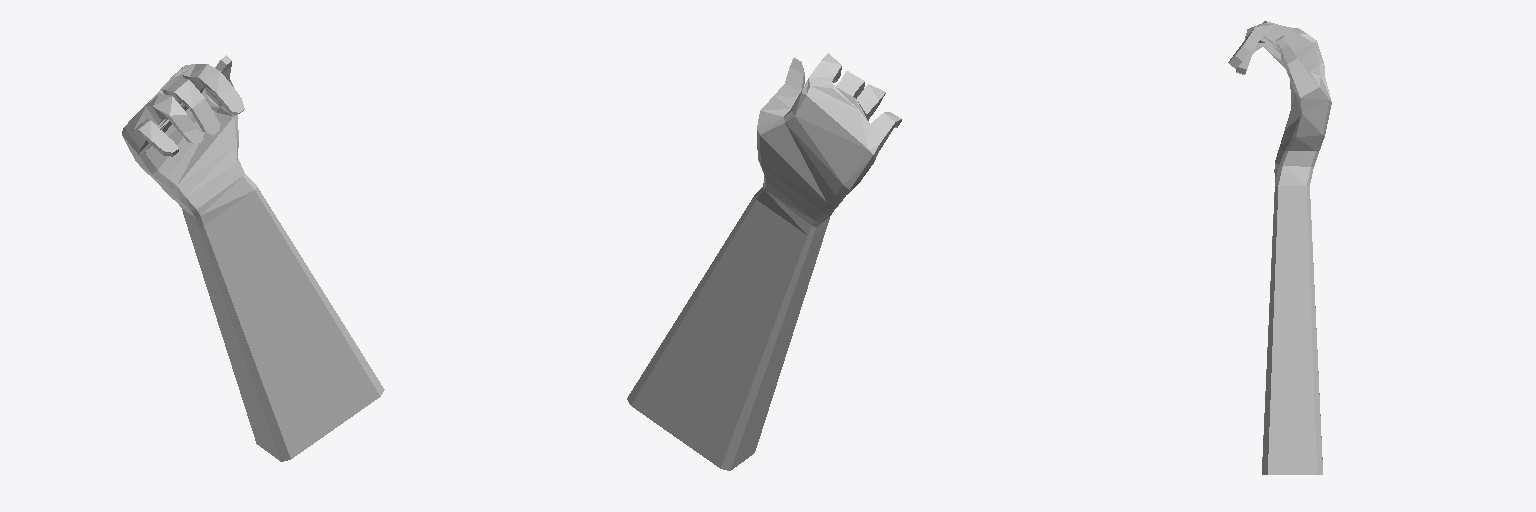
The model's file is hand_anim5.obj.
3 renders of one model, left to right at view 1: azimuth 30°, elevation 25°; view 2: azimuth 150°, elevation 25°; view 3: azimuth 270°, elevation 25°, orthographic.
Parts seen in each view (by area): view 1: Cube.001; view 2: Cube.001; view 3: Cube.001.
Boxes of the visible parts, box(x1,y1,x2,y2) form: Cube.001: box(122, 55, 384, 461); Cube.001: box(627, 53, 901, 470); Cube.001: box(1228, 21, 1331, 474).
Size of the model in its own units: 1.8 by 2.89 by 0.66.